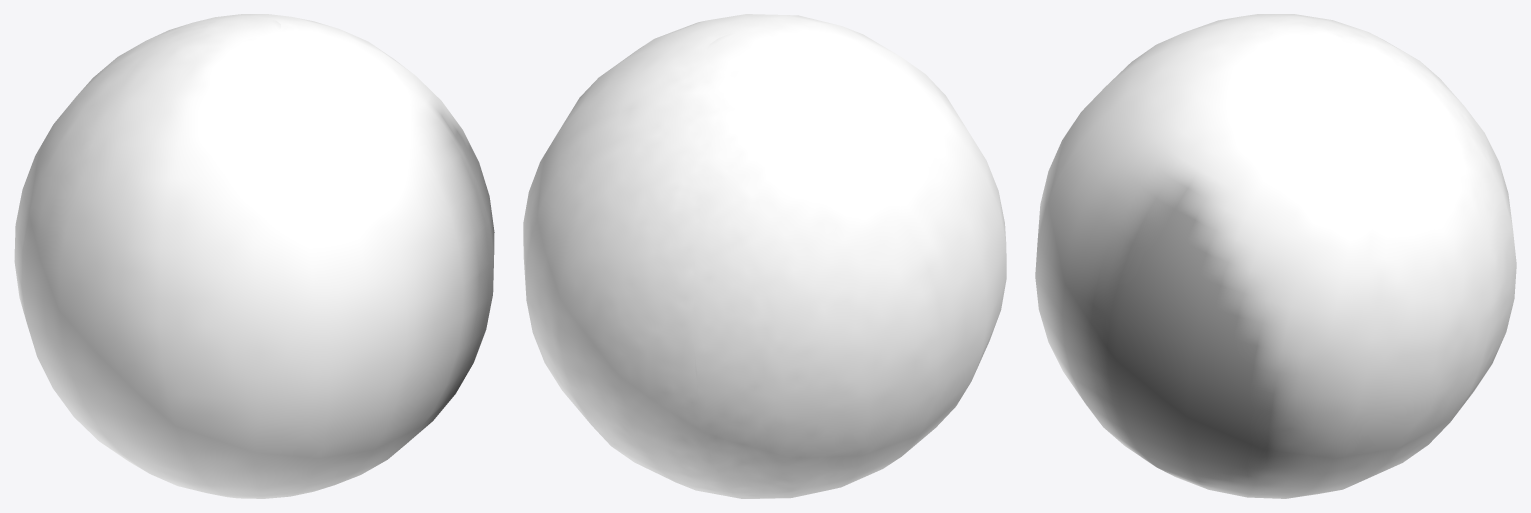
The model's file is ball_L.gltf.
3 views of the same model, side by side, from view 1: azimuth 30°, elevation 25°; view 2: azimuth 150°, elevation 25°; view 3: azimuth 270°, elevation 25° (orthographic).
Parts seen in each view (by area): view 1: Sphere.001; view 2: Sphere.001; view 3: Sphere.001.
Boxes of the visible parts, x1,y1,x2,y2 form: Sphere.001: [14, 14, 494, 498]; Sphere.001: [523, 14, 1006, 498]; Sphere.001: [1035, 14, 1516, 498].
Bounding box in the file's own units: 0.3303 × 0.3313 × 0.3283.
Materials: 1 (1 with a texture image).
